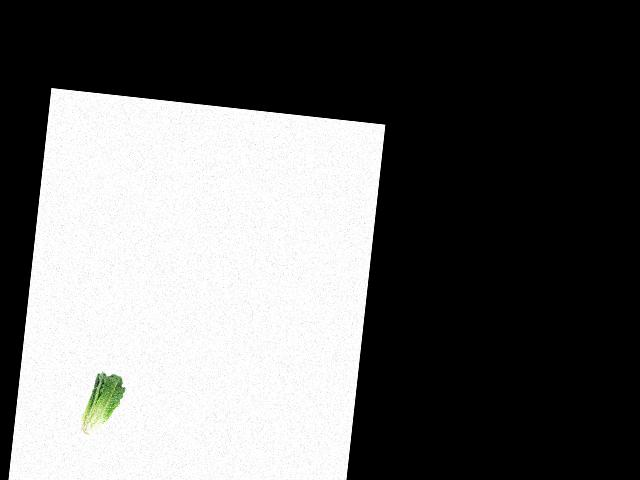lettuce: (77, 369, 126, 441)
